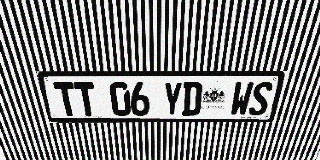0: (109, 82, 131, 116)
6: (129, 82, 150, 116)
D: (181, 82, 203, 116)
S: (248, 82, 274, 116)
T: (53, 82, 79, 116), (73, 82, 98, 116)
W: (229, 82, 254, 116)
Y: (163, 82, 183, 116)
